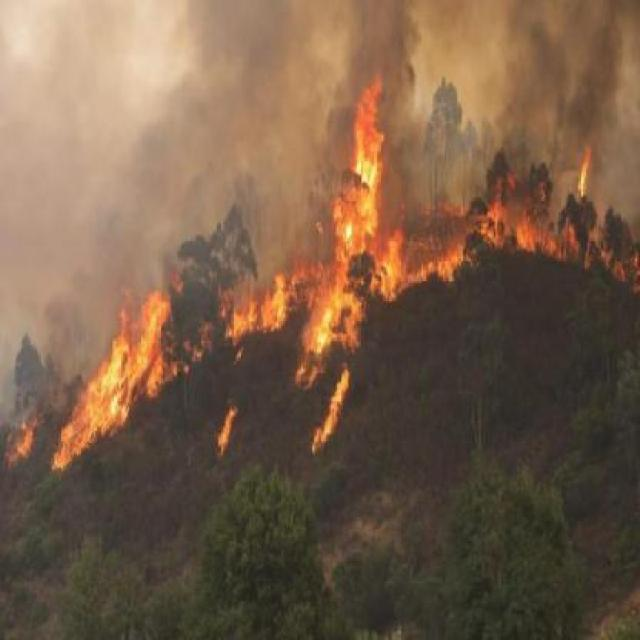Fire: (48, 80, 634, 466), (312, 372, 350, 454), (6, 414, 36, 460), (216, 404, 238, 458), (576, 144, 596, 198)
